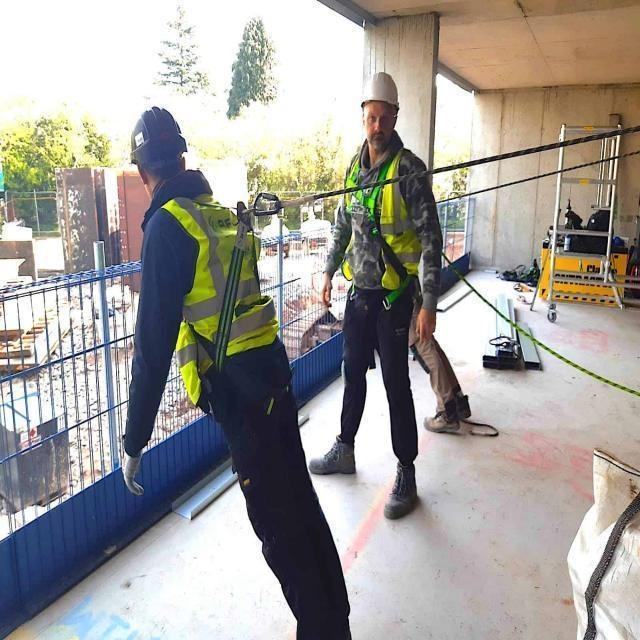Arnes_seguridad: (165, 183, 309, 481), (336, 141, 413, 363)
